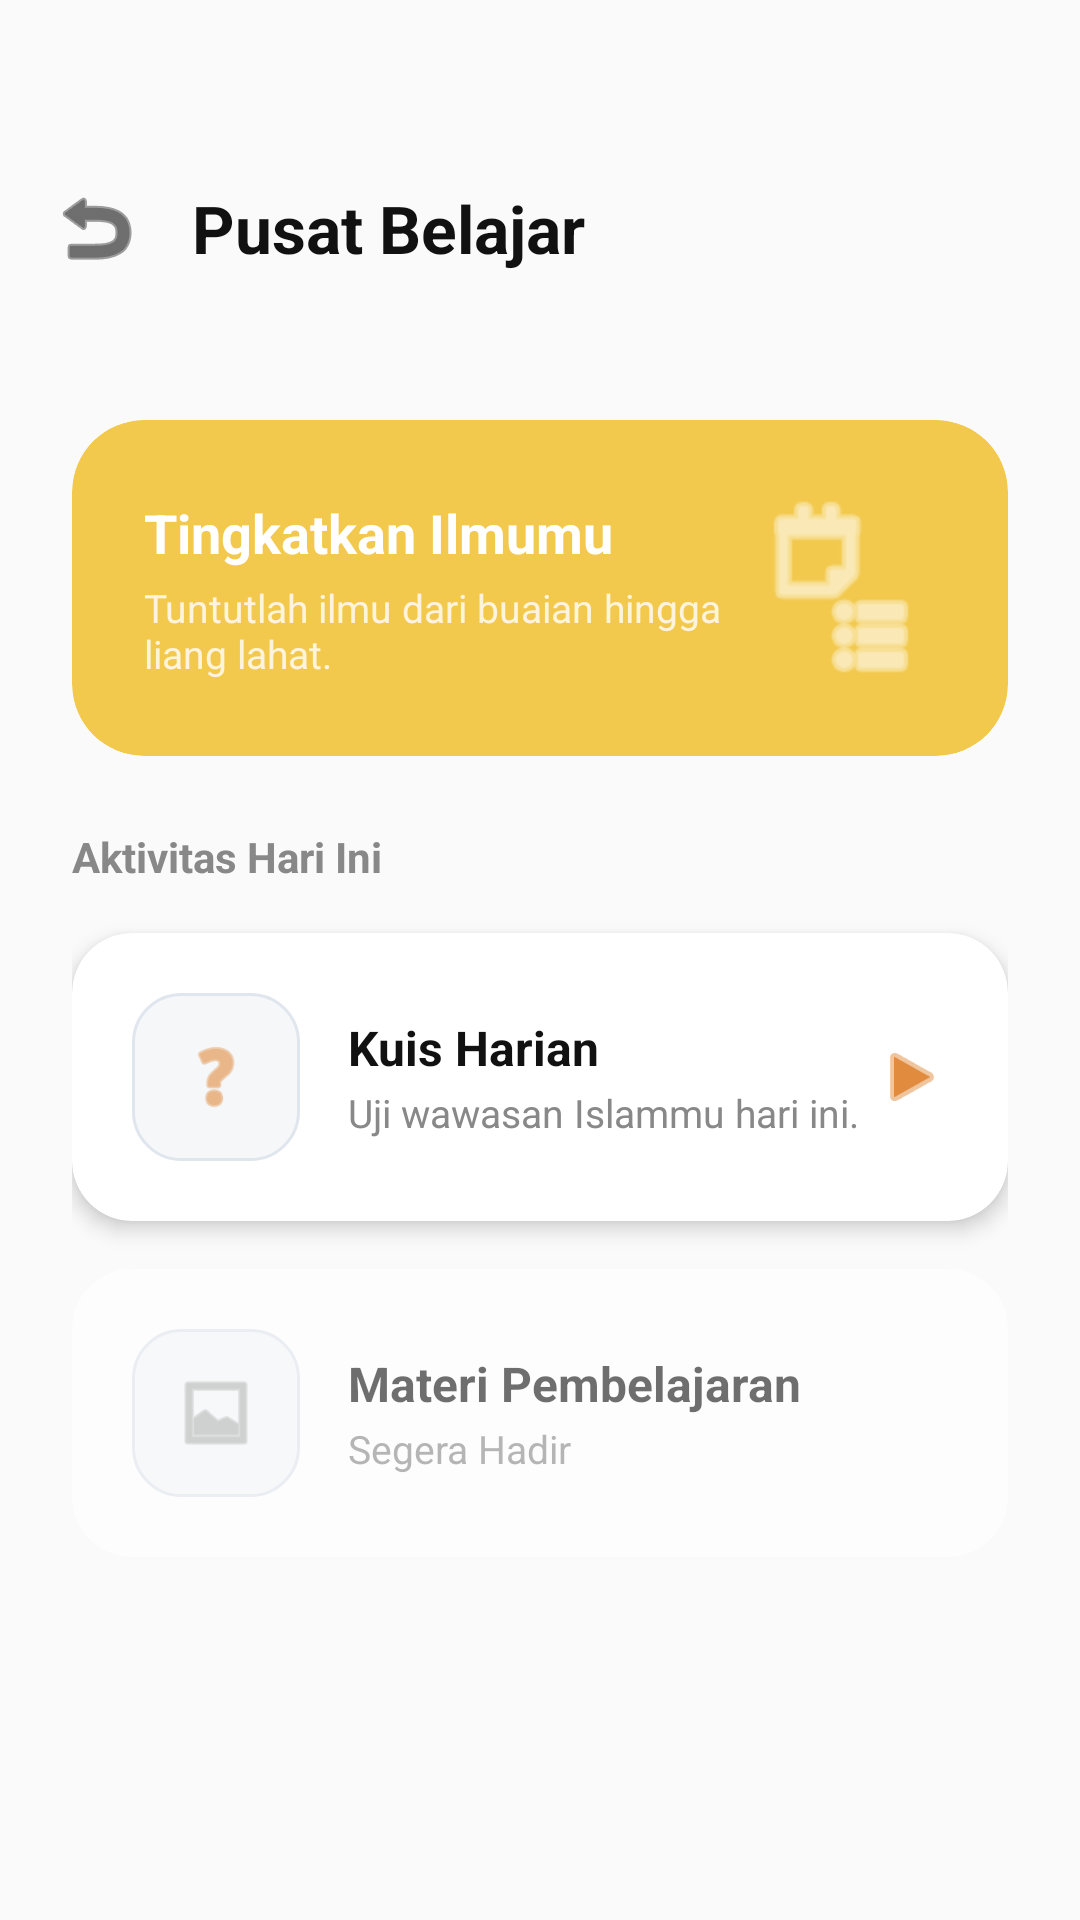

Point at icon controls on the screen. Image size 1080px x 1920px, points as point (x, y).
agenda: point (841, 587)
gallery: point (216, 1413)
help: point (216, 1077)
play: point (912, 1077)
revert: point (97, 228)
